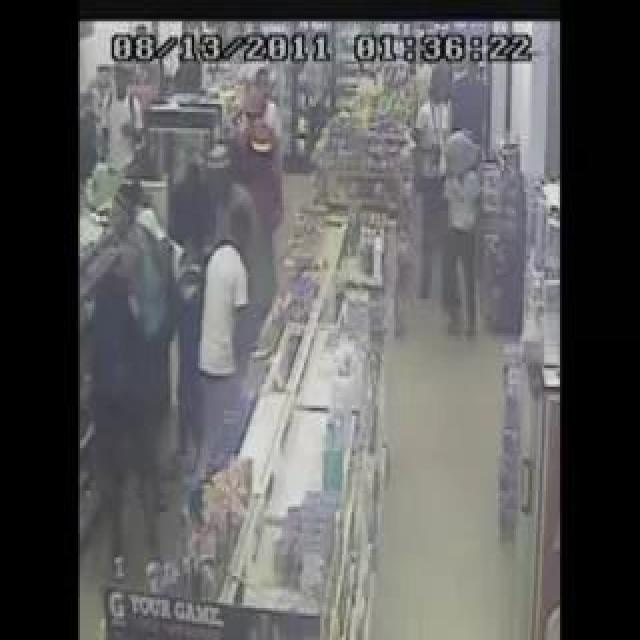thief: (101, 168, 249, 292), (407, 51, 475, 181), (221, 76, 287, 151)
